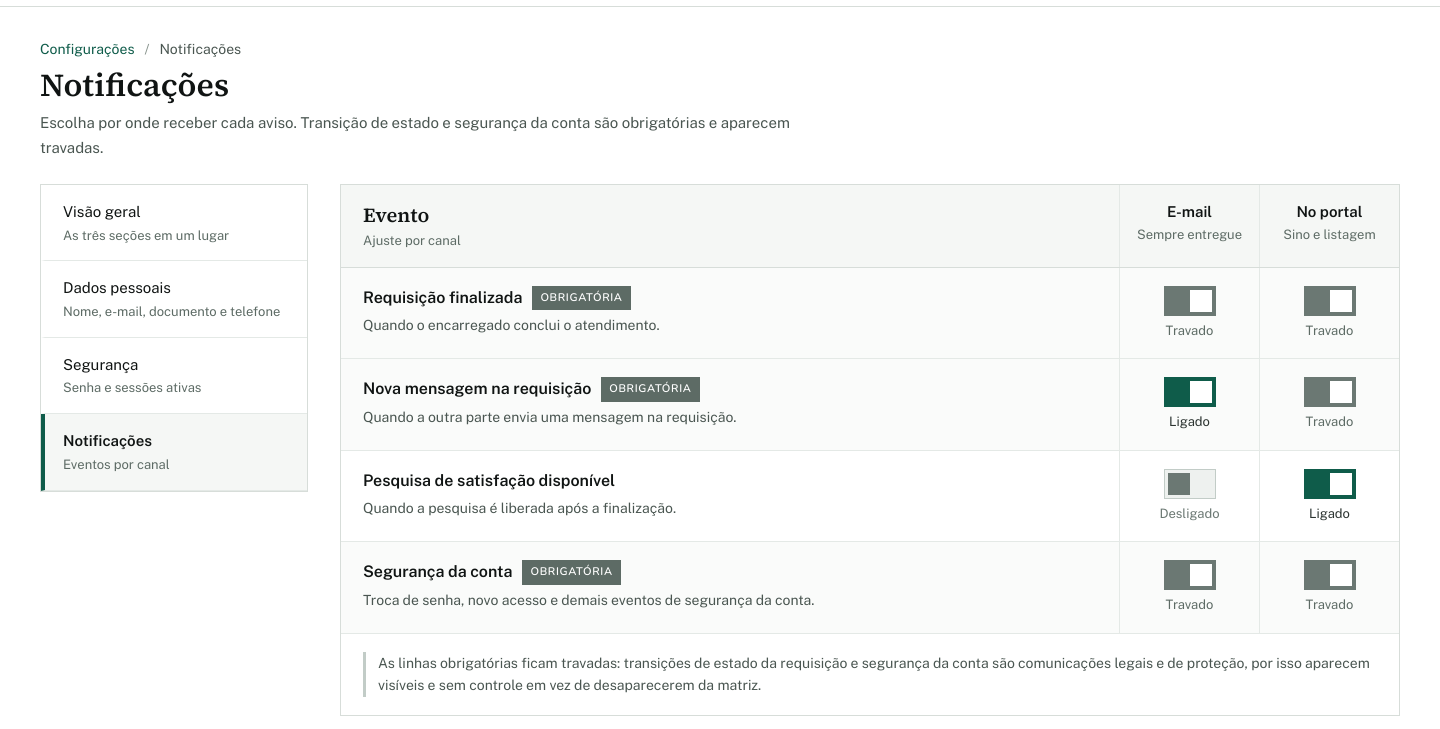
Test: Preferências de notificação › o hub passa a contar os avisos ligados
Step 1. Click the switch named "E-mail para Pesquisa de satisfação disponível" → (1190, 484), box [1164, 469, 1216, 499]
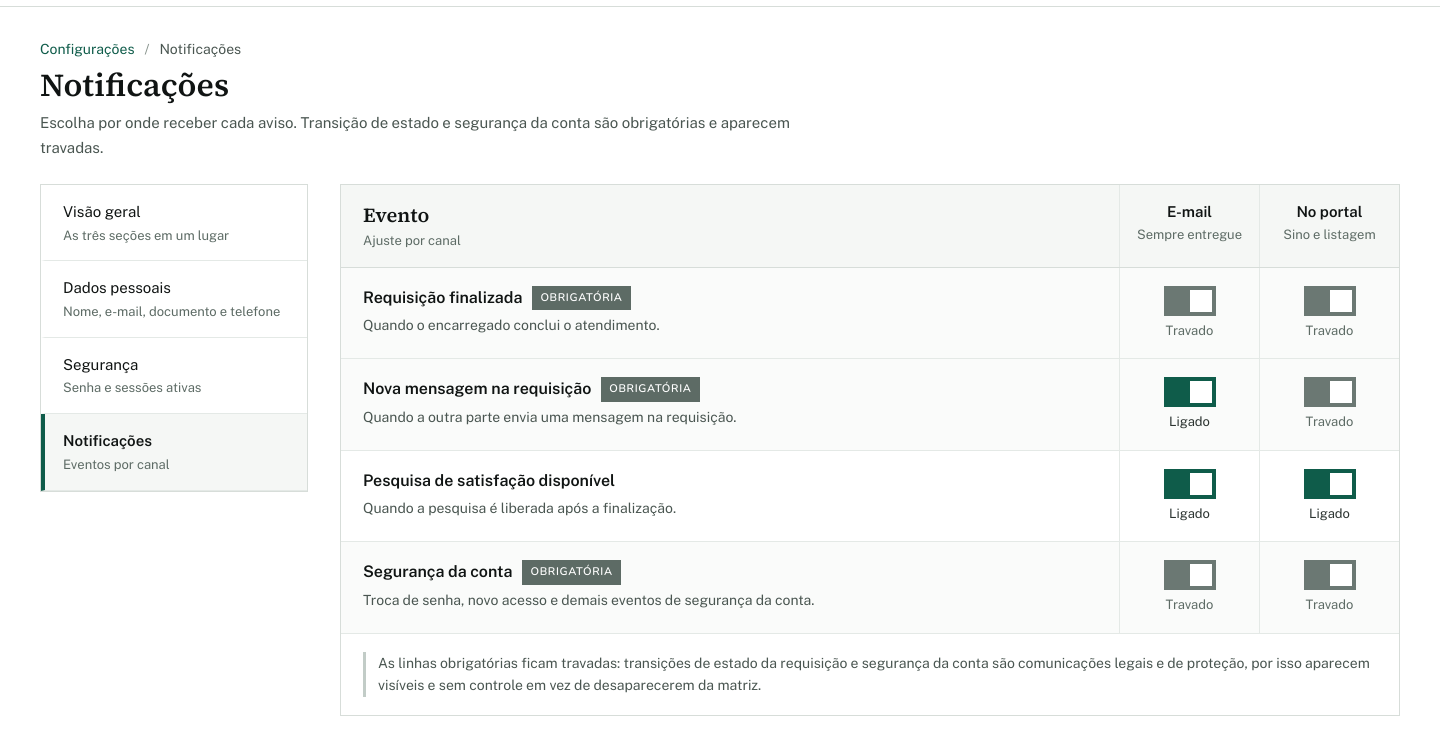
Step 2. Scroll
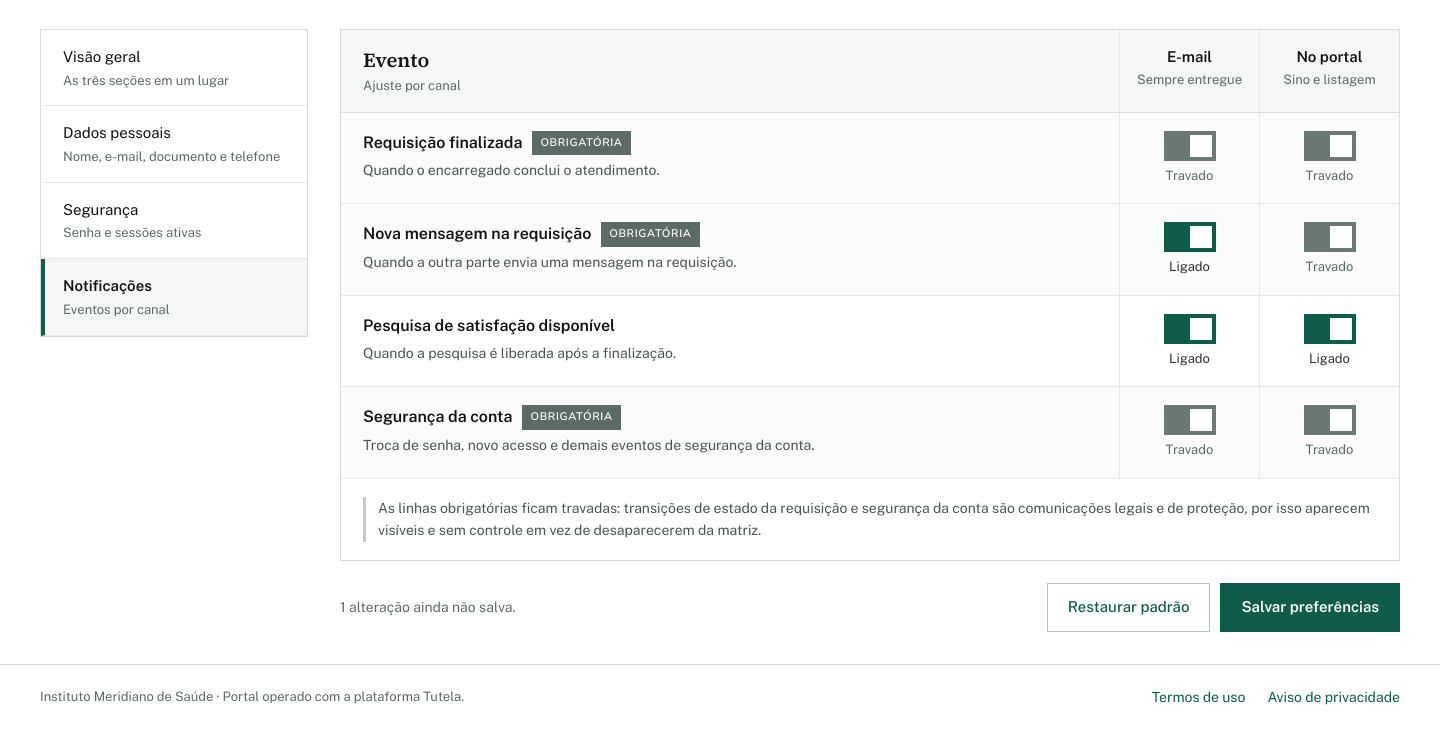
Step 3. Click the button "Salvar preferências" → (1310, 608), box [1220, 583, 1400, 632]
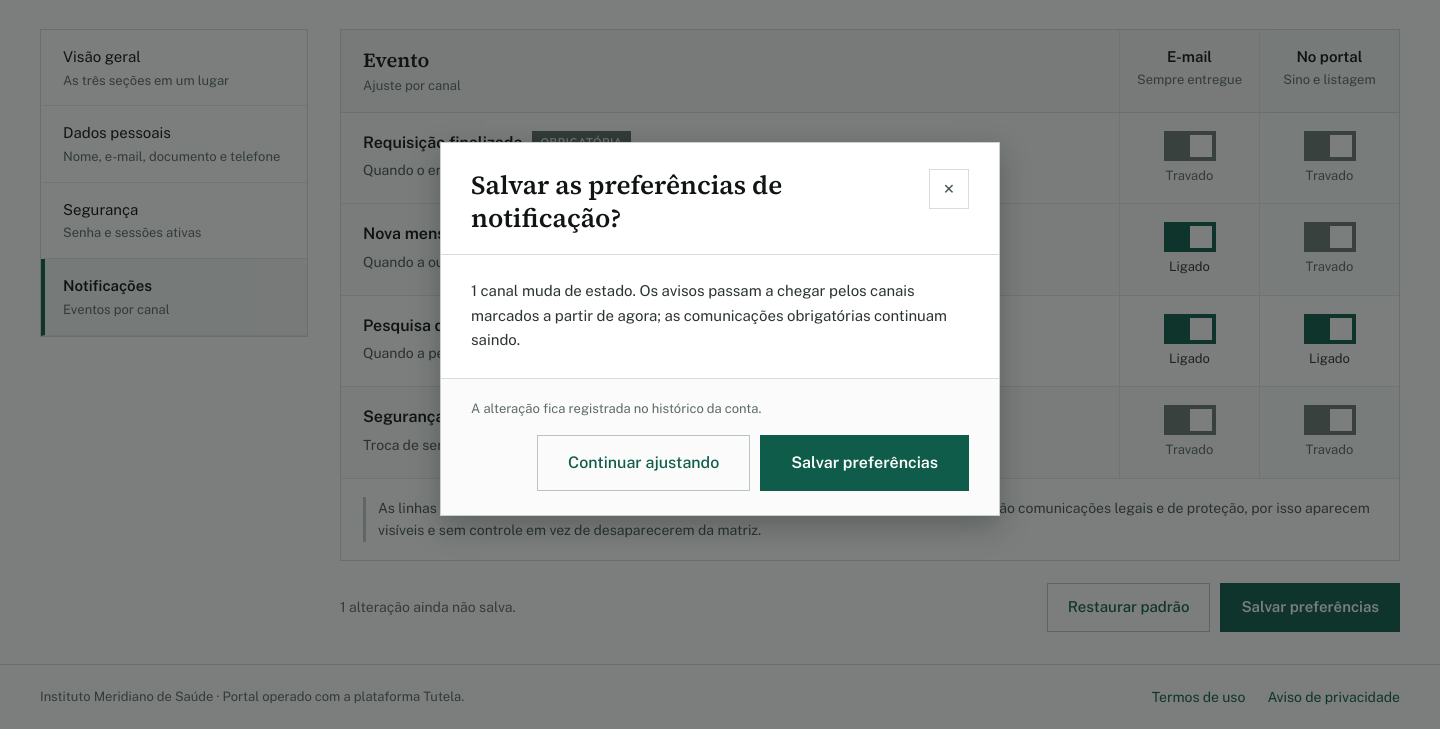
Step 4. Click the button "Salvar preferências" → (865, 463), box [760, 435, 969, 491]
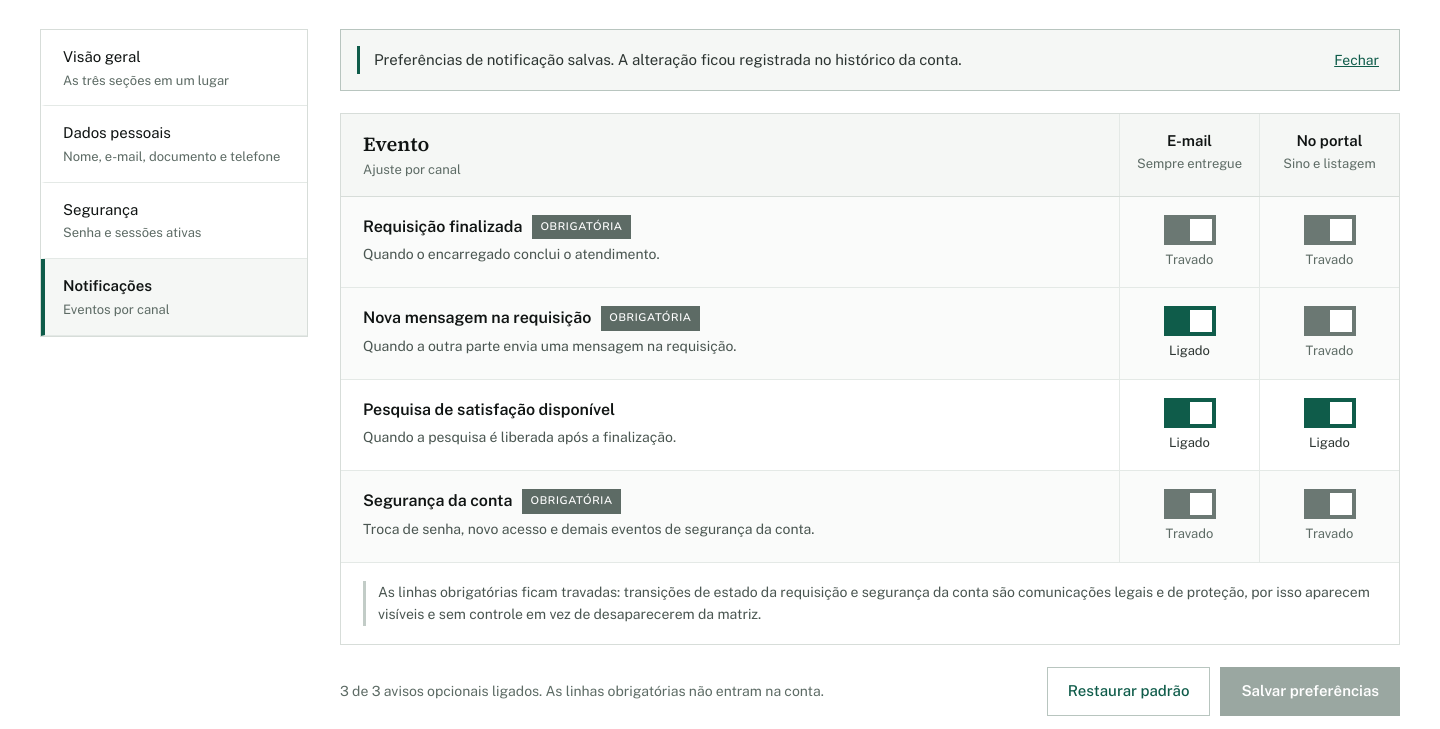
Check: the text "Preferências de notificação salvas." is shown, box [374, 51, 962, 68]
Step 5. Click the link "Visão geral As três seções em um lugar" → (102, 57), box [41, 30, 307, 106]
(page scrolled)
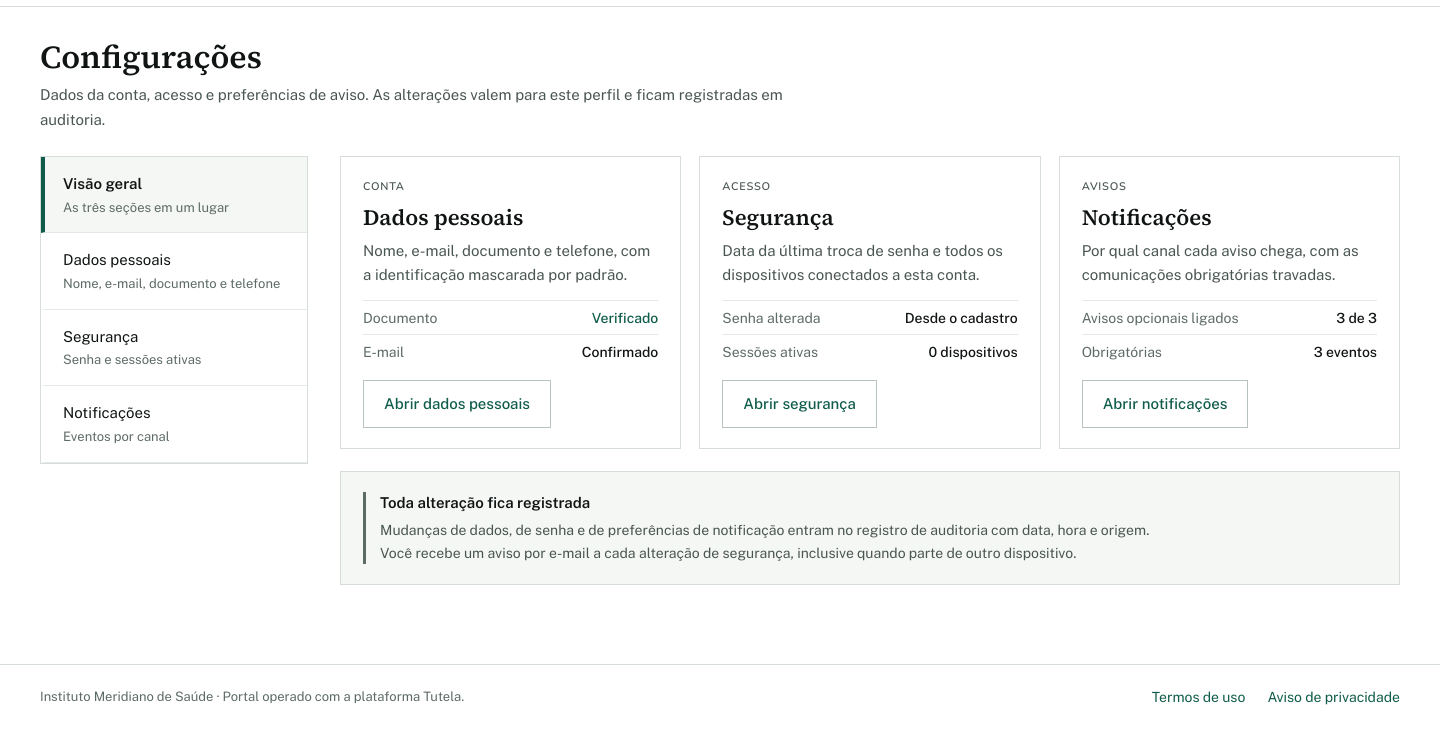
Check: the element showing "Avisos opcionais ligados 3 de 3" is shown, box [1082, 300, 1377, 328]
